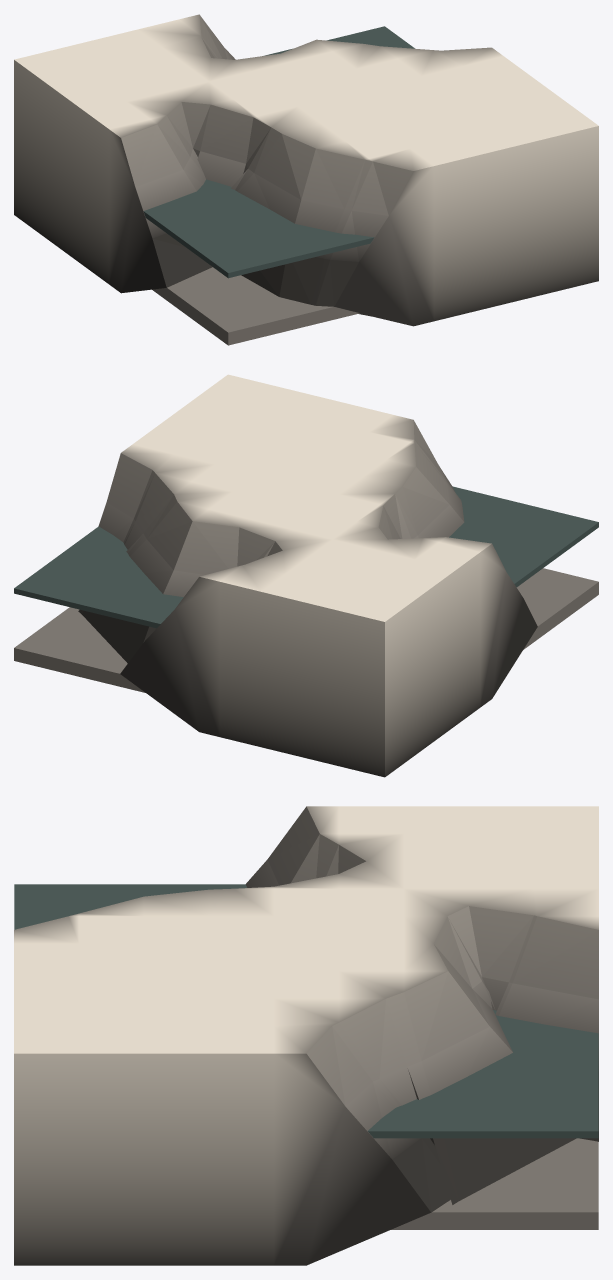
File: SM_VKI_Ground_Stream_XOXO_Q11.fbx
3 renders of one model, top to bottom at view 1: azimuth 30°, elevation 25°; view 2: azimuth 150°, elevation 25°; view 3: azimuth 270°, elevation 25°, orthographic. The views are drawn at different scales.
Parts seen in each view (by area): view 1: SM_VKI_Ground_Stream_XOXO_Q11.001; view 2: SM_VKI_Ground_Stream_XOXO_Q11.001; view 3: SM_VKI_Ground_Stream_XOXO_Q11.001.
Part boxes in pixels (x1=…): SM_VKI_Ground_Stream_XOXO_Q11.001: x1=14, y1=14, x2=598, y2=345; SM_VKI_Ground_Stream_XOXO_Q11.001: x1=14, y1=374, x2=598, y2=777; SM_VKI_Ground_Stream_XOXO_Q11.001: x1=14, y1=806, x2=598, y2=1265.
Size of the model in its own units: 1.5 by 0.6 by 1.5.
